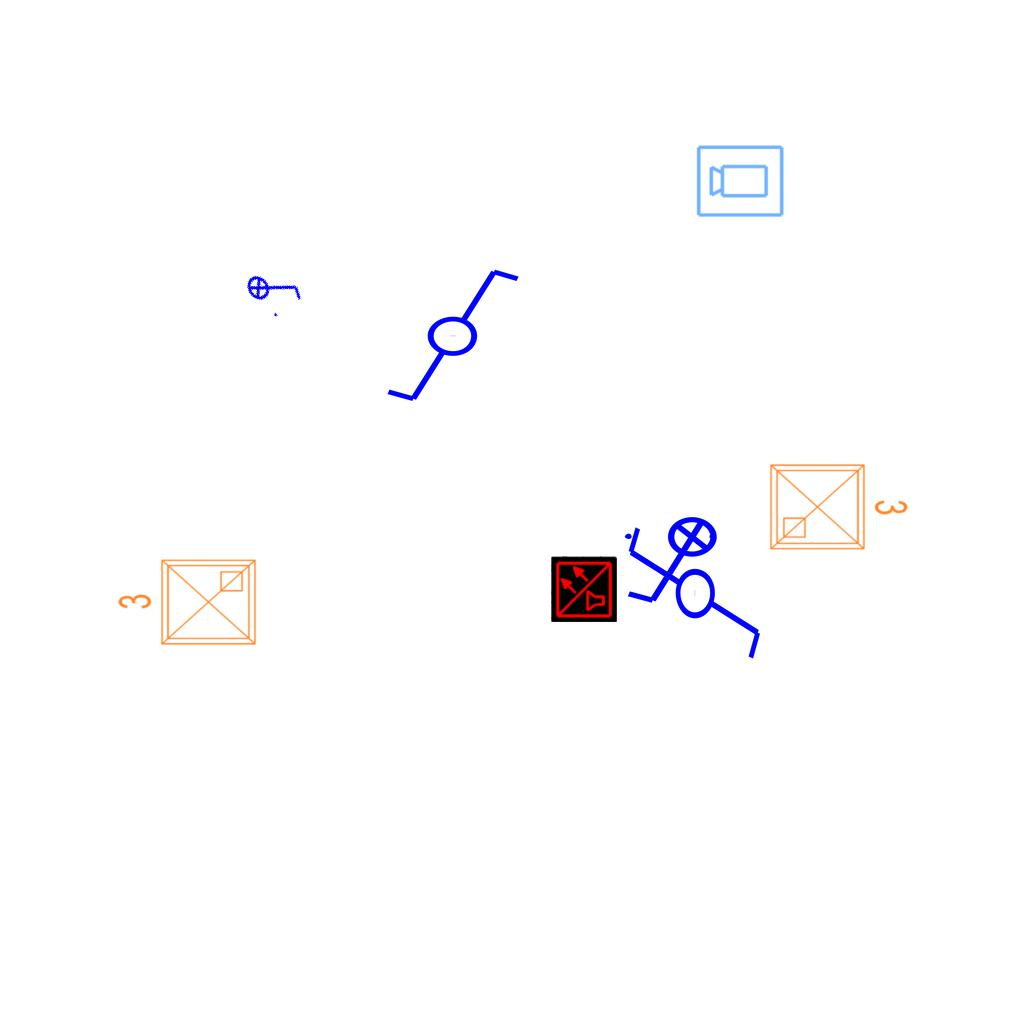Ausschalter_beleuchtet: (619, 515, 731, 611), (238, 251, 310, 325)
Einbaudownlights_LED_Konferenzraeume: (113, 552, 263, 656), (763, 453, 913, 557)
KFO_Kamera_mit_Festobjektiv: (695, 142, 786, 219)
OKW_Multisensormelder_(Kombination_optischer_Rauch-Kahlenmonoxid_Waerme-Melder): (551, 556, 617, 622)
Wechselschalter: (366, 262, 523, 406), (621, 523, 765, 680)
